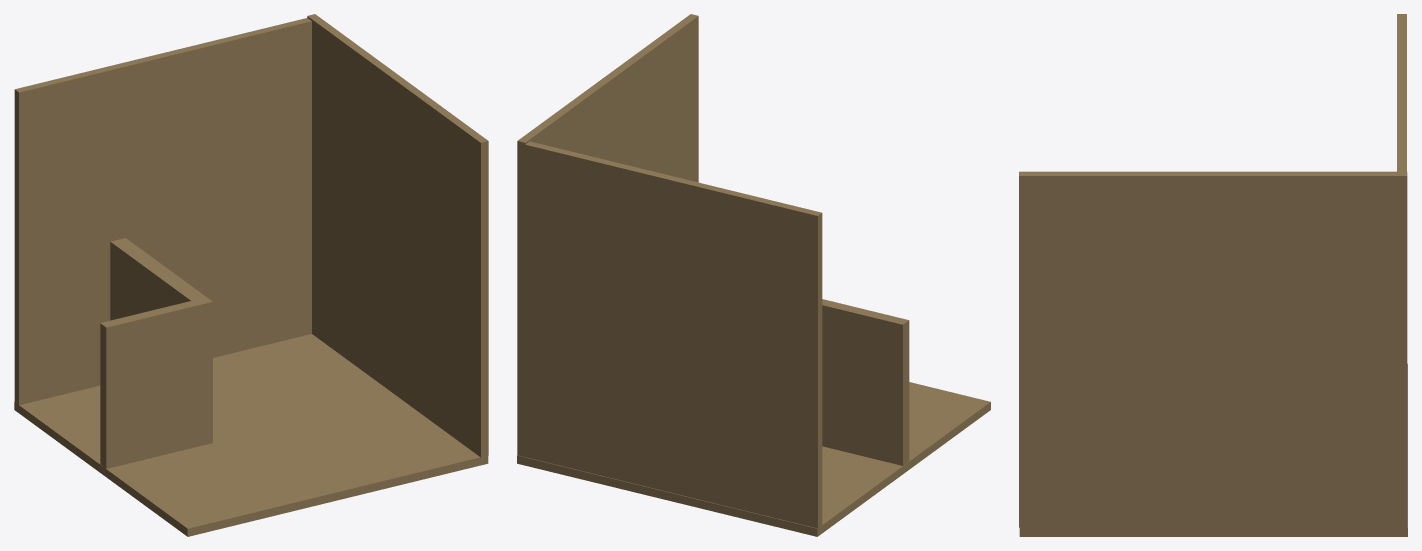
File: light_test.gltf
The picture shows the model from 3 angles, left to right: view 1: azimuth 30°, elevation 25°; view 2: azimuth 150°, elevation 25°; view 3: azimuth 270°, elevation 25°; orthographic projection. The views are drawn at different scales.
Parts seen in each view (by area): view 1: Cube.001, Cube.002, Cube, Cube.003; view 2: Cube.001, Cube.002, Cube.003, Cube; view 3: Cube.002, Cube.001, Cube.
Part boxes in pixels (x1,y1,x2,y2): Cube.001: (14,18,311,406); Cube.002: (307,14,488,457); Cube: (14,334,488,536); Cube.003: (100,238,212,468); Cube.001: (525,141,822,528); Cube.002: (517,14,698,456); Cube.003: (822,299,909,465); Cube: (517,382,990,536); Cube.002: (1019,171,1407,527); Cube.001: (1397,14,1406,529); Cube: (1019,363,1407,536).
Bounding box in the file's own units: 7.62 × 7.82 × 7.63.
